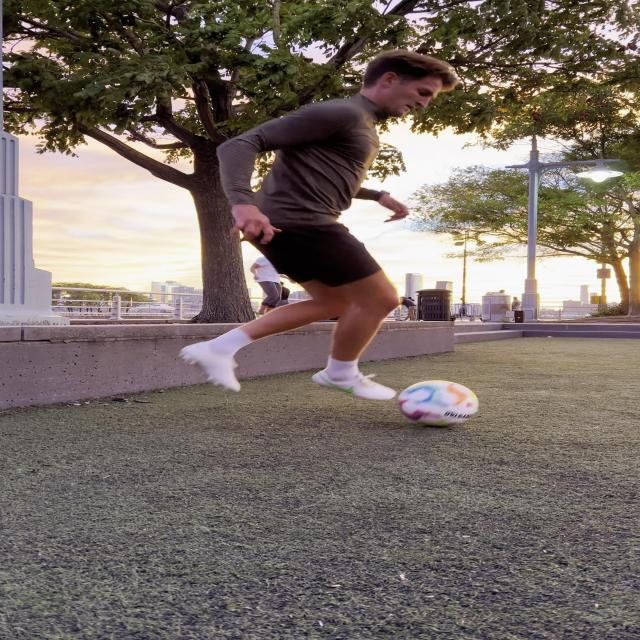Soccer Ball: (397, 379, 480, 428)
